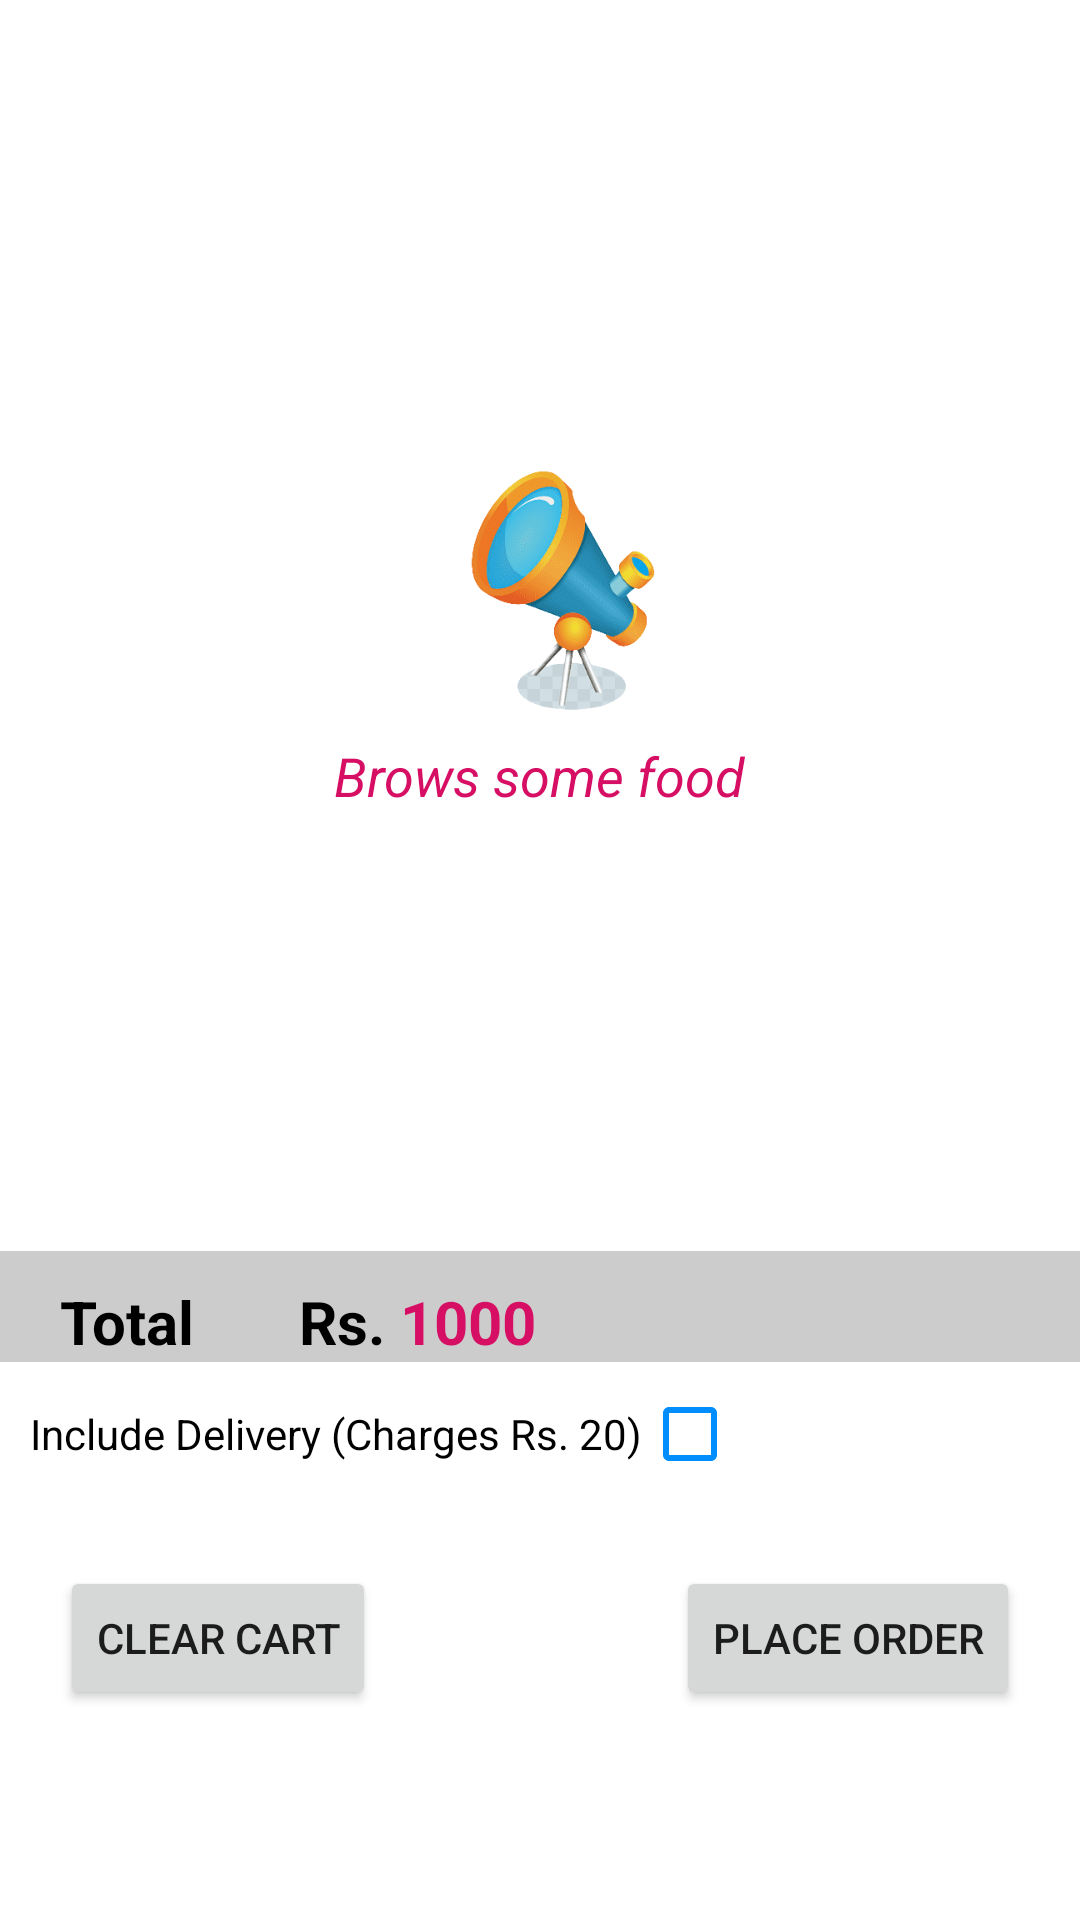

Icon click points for this 1080px×1920px phone screenshot, format point (x, y):
telescope: point (562, 590)
